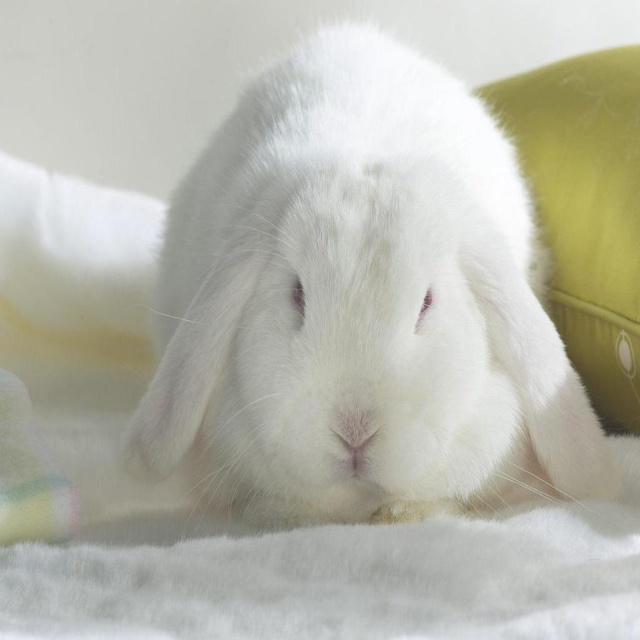Rabbit: (122, 13, 640, 531)
